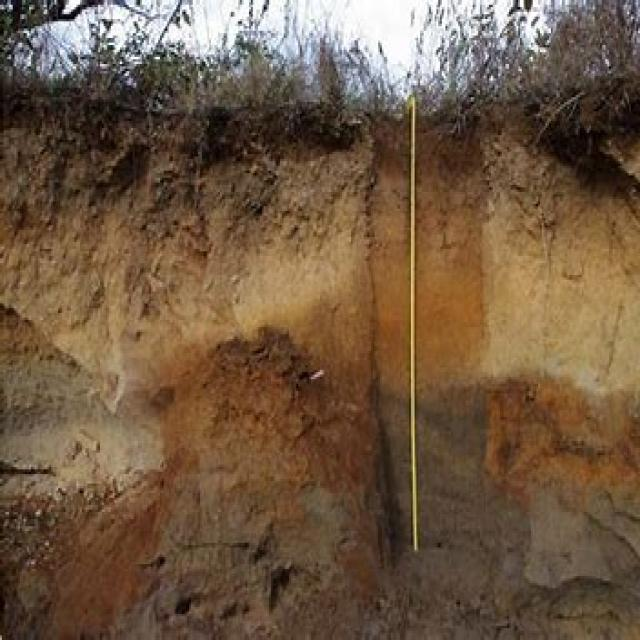Alluvial Soil: (0, 184, 382, 618)
